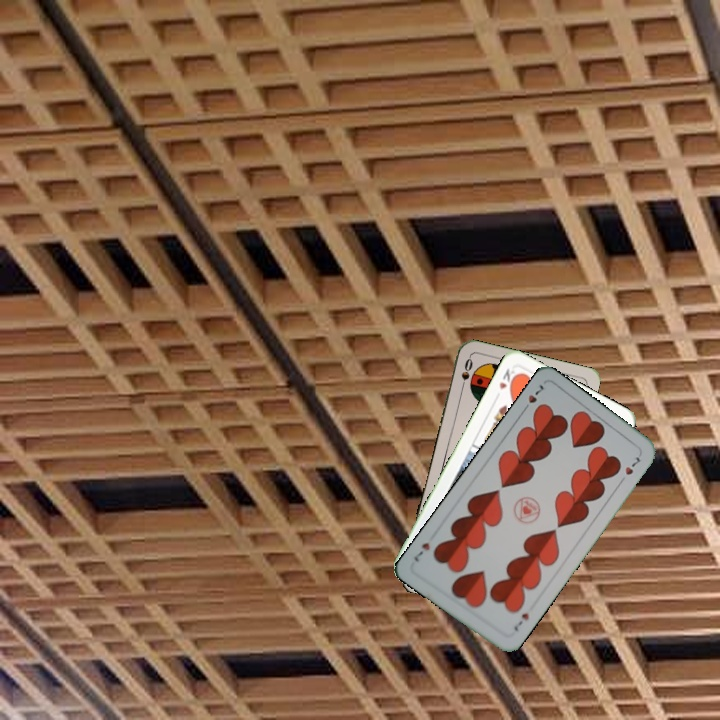H7: (518, 380, 546, 415), (509, 609, 531, 634)
HK: (495, 364, 520, 392)
SO: (456, 354, 475, 394)
